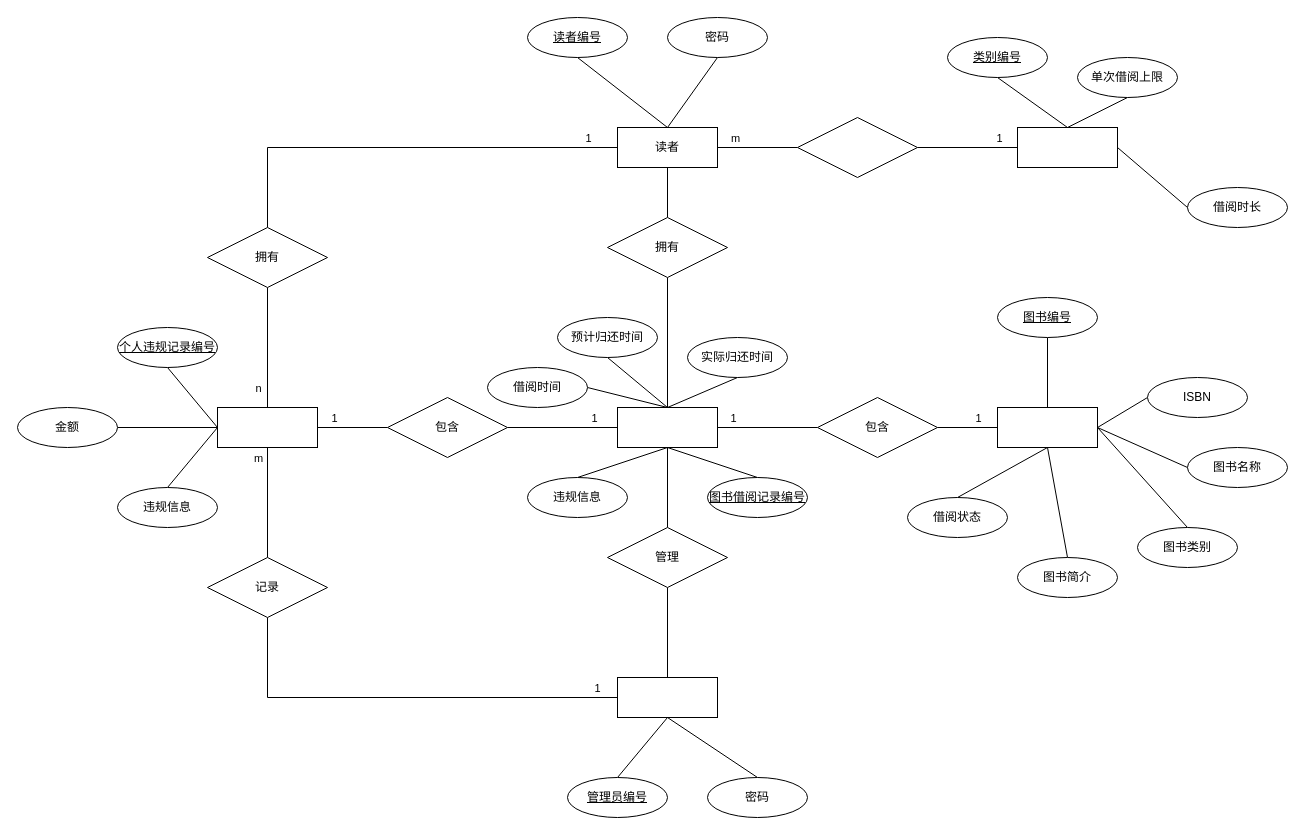
Image size: 1305x835. Some labels were removed from this diagram. The centre of each missing label's shape, as x and y in pixels:
"个人违规记录" goes at [267,427].
"图书" goes at [1047,427].
"图书借阅记录" goes at [667,427].
"属于" goes at [857,147].
"管理员" goes at [667,697].
"读者类别" goes at [1067,147].
